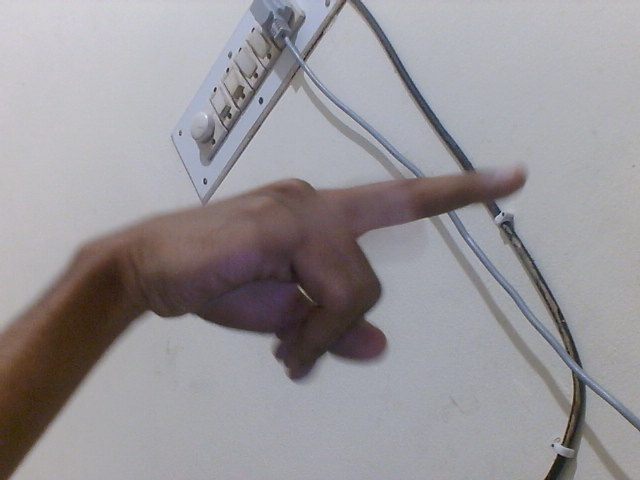hand: (77, 160, 532, 388)
